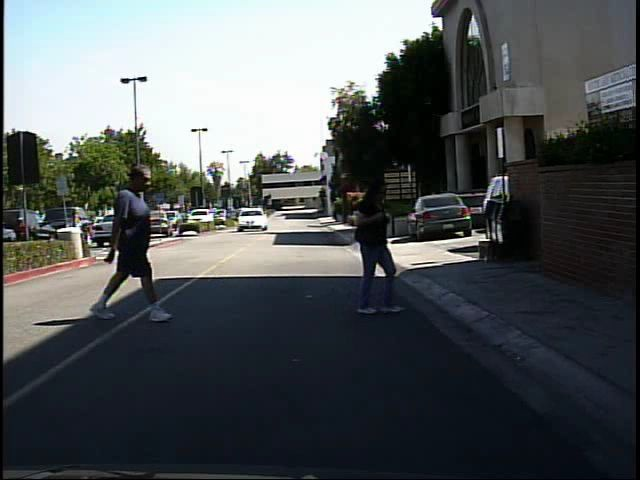person: (85, 161, 178, 327), (345, 172, 420, 320), (64, 203, 86, 257)
